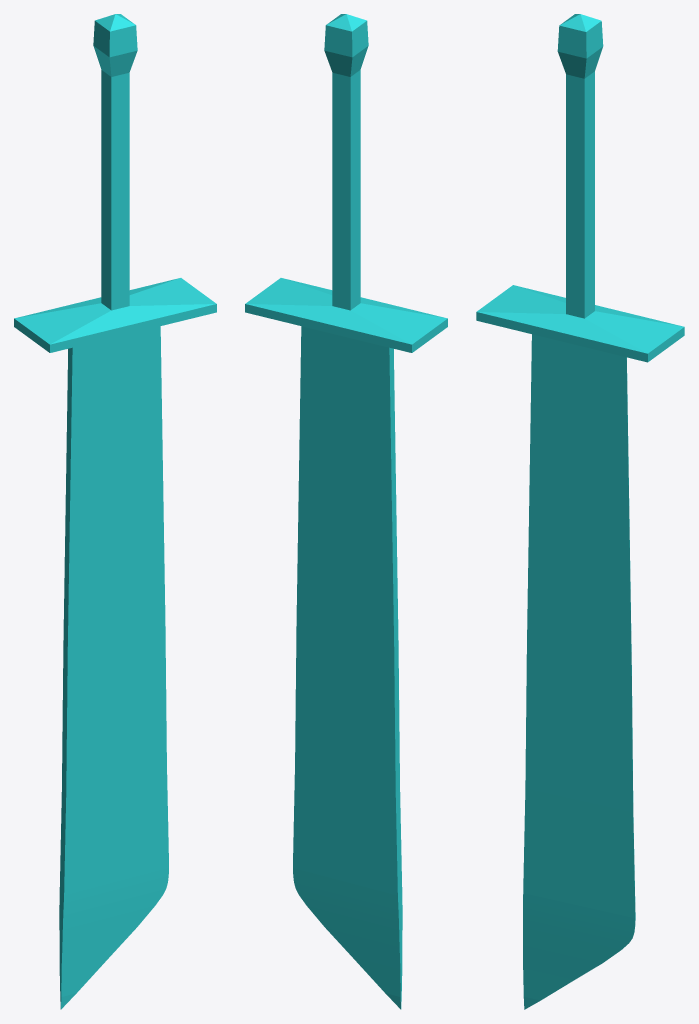
The model's file is sword2Glb.glb.
The picture shows the model from 3 angles, left to right: view 1: azimuth 30°, elevation 25°; view 2: azimuth 150°, elevation 25°; view 3: azimuth 330°, elevation 25°; orthographic projection. The views are drawn at different scales.
Visible parts, largest first — view 1: Cube; view 2: Cube; view 3: Cube.
Part boxes in pixels (x1,y1,x2,y2): Cube: (14, 14, 216, 1009); Cube: (245, 14, 447, 1009); Cube: (476, 14, 684, 1009).
Bounding box in the file's own units: 2.31 × 12.97 × 0.8563.
